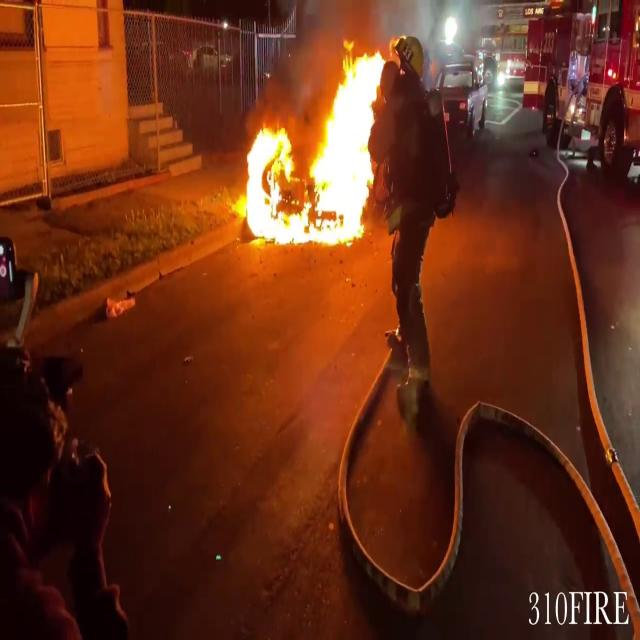Fire: (235, 34, 390, 250)
